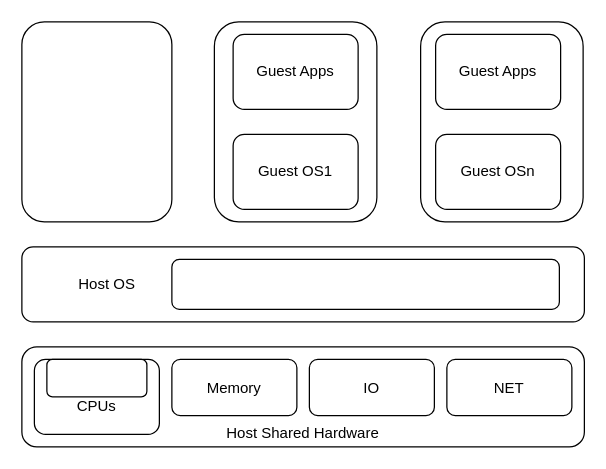
The diagram is 606 pixels wide and 469 high, and some of its shapes have lost their labels. The centre of each missing label's shape, as x and y in pixels:
Host Apps: the point at 96,121
hw assist: the point at 96,377
VMM（有装在Host OS中，也有直接装在裸机上的）: the point at 365,283
